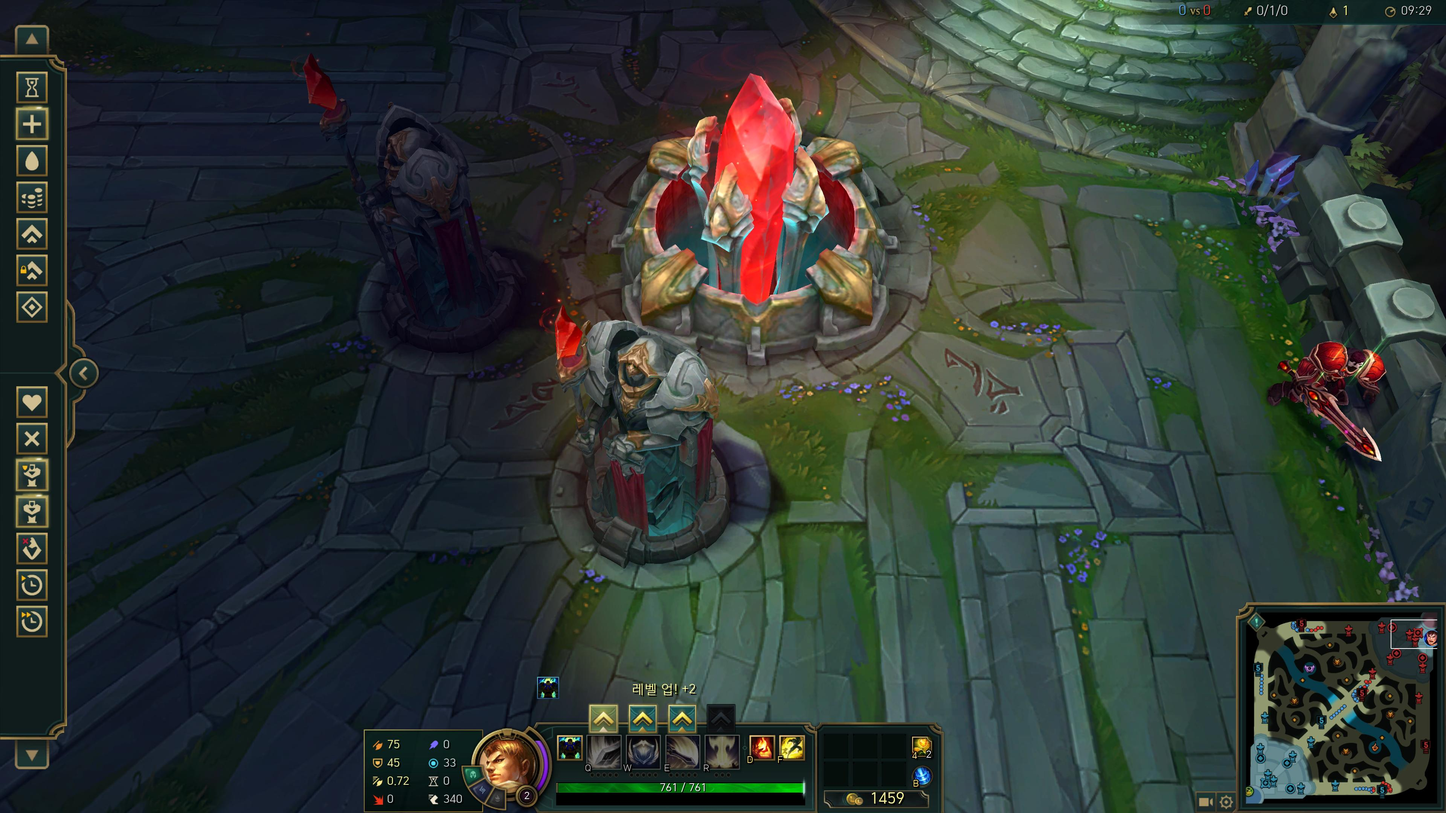enemy-nexus: (563, 72, 933, 320)
enemy-tower: (550, 310, 771, 587), (356, 102, 522, 351), (304, 54, 350, 158)
